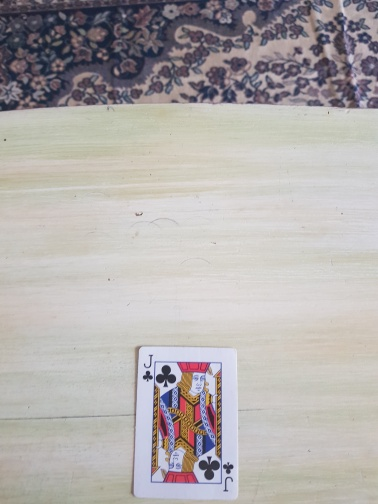jack: (132, 345, 241, 501)
